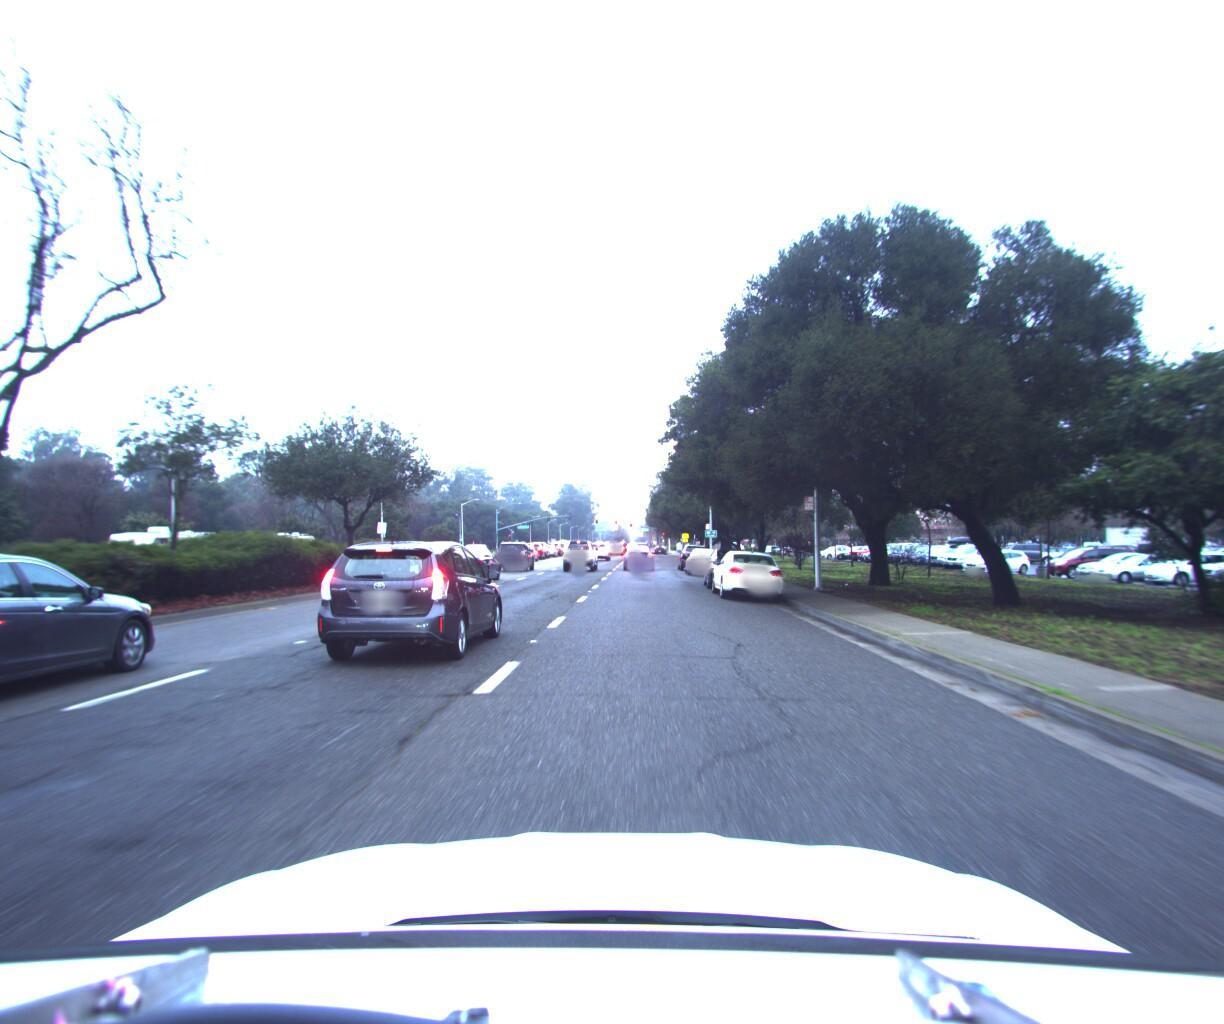car: (0, 548, 180, 752), (315, 539, 512, 671), (706, 541, 784, 604), (699, 540, 756, 589), (439, 542, 504, 583), (492, 534, 534, 567), (560, 534, 597, 567), (682, 540, 720, 573), (674, 535, 710, 567), (457, 539, 494, 564), (621, 538, 651, 565), (594, 535, 617, 555)
other_vehicle: (96, 519, 226, 588), (238, 525, 323, 574)
